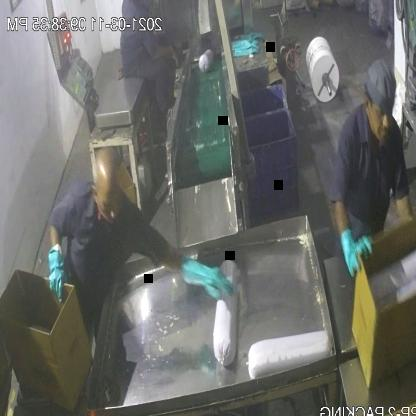glove: (177, 240, 234, 307), (334, 210, 376, 285), (46, 240, 65, 300)
no_glove: (148, 31, 180, 84)
